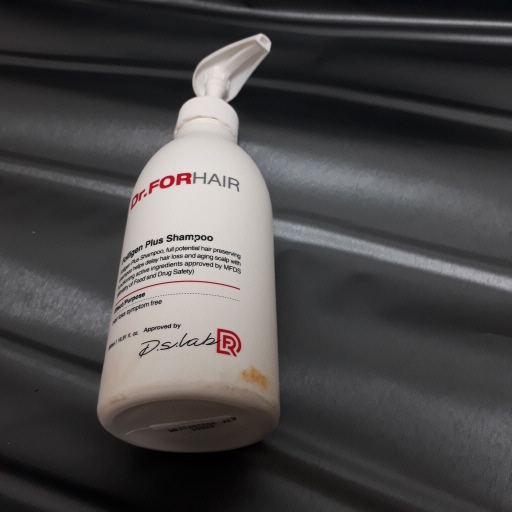Plastic_3: (97, 34, 286, 456)
